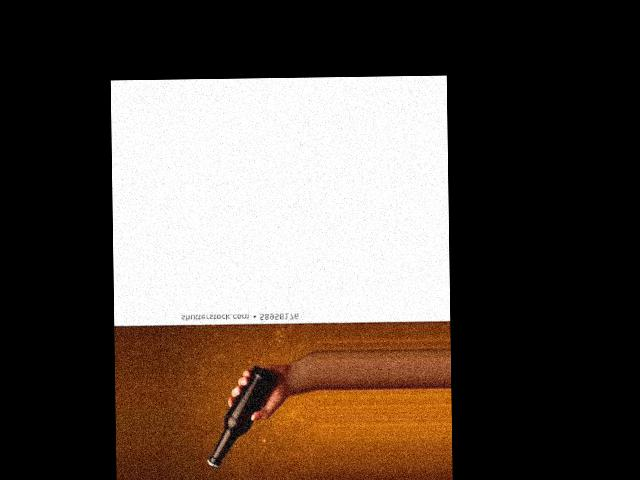beer: (204, 365, 281, 468)
